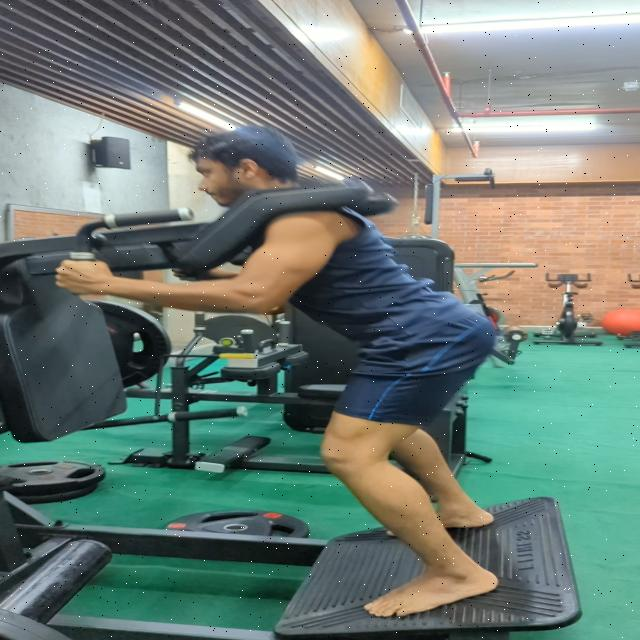Normal_SquatsWithBarbell: (41, 106, 586, 622)
